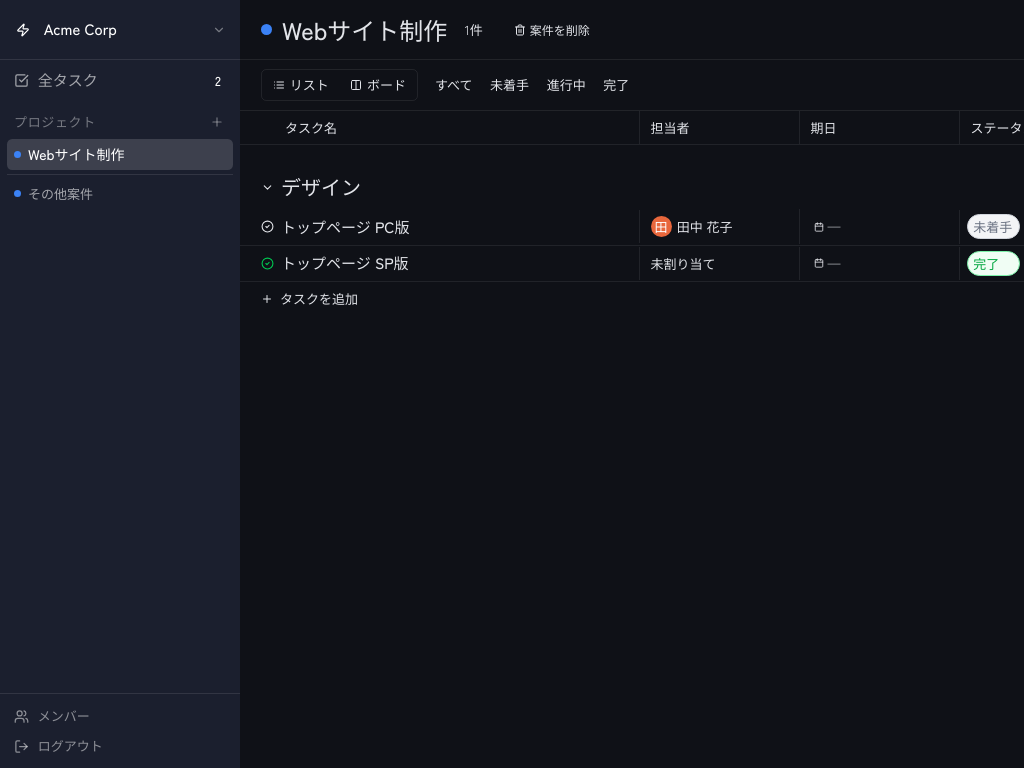
Test: App の主要操作 › その他案件で M2 からタスクを追加すると一覧に出る
Expected: the heading "Webサイト制作" is shown, [282, 12, 447, 48]
Click the button "その他案件" at {"x": 120, "y": 193}, box [7, 178, 233, 208]
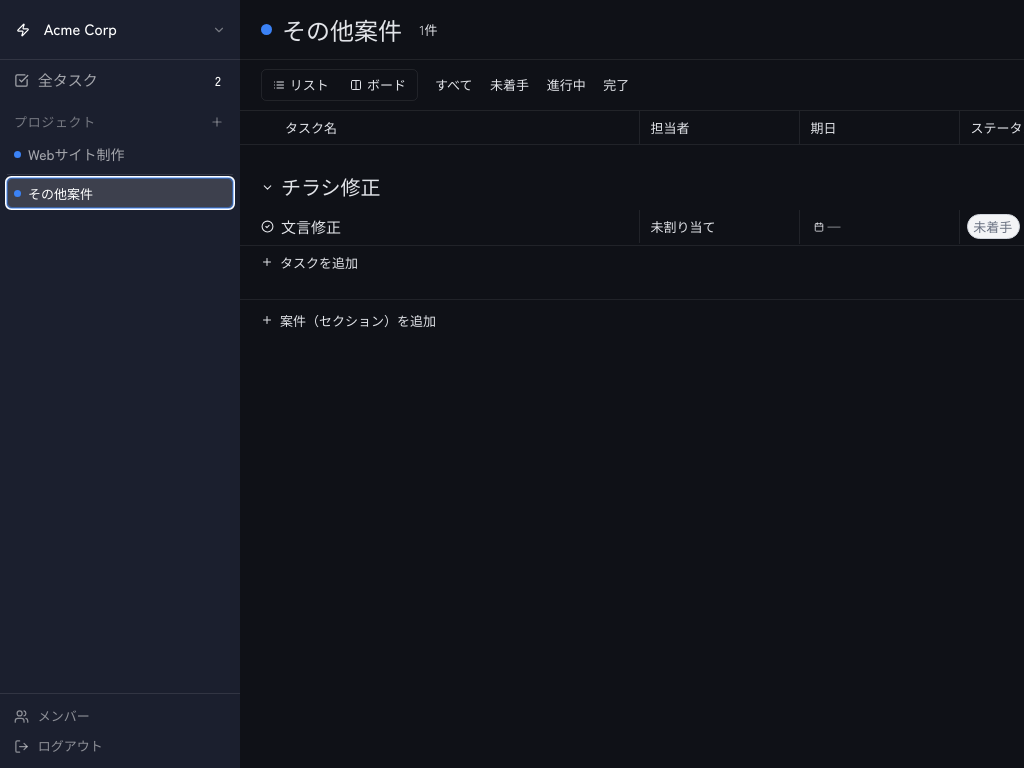
Now the text "チラシ修正" is shown, box [281, 172, 381, 202]
セクションごとに「タスクを追加」があるので先頭のものを押す。M2 は Enter で送信
Click the button "タスクを追加" at {"x": 319, "y": 262}, box [240, 246, 1023, 279]
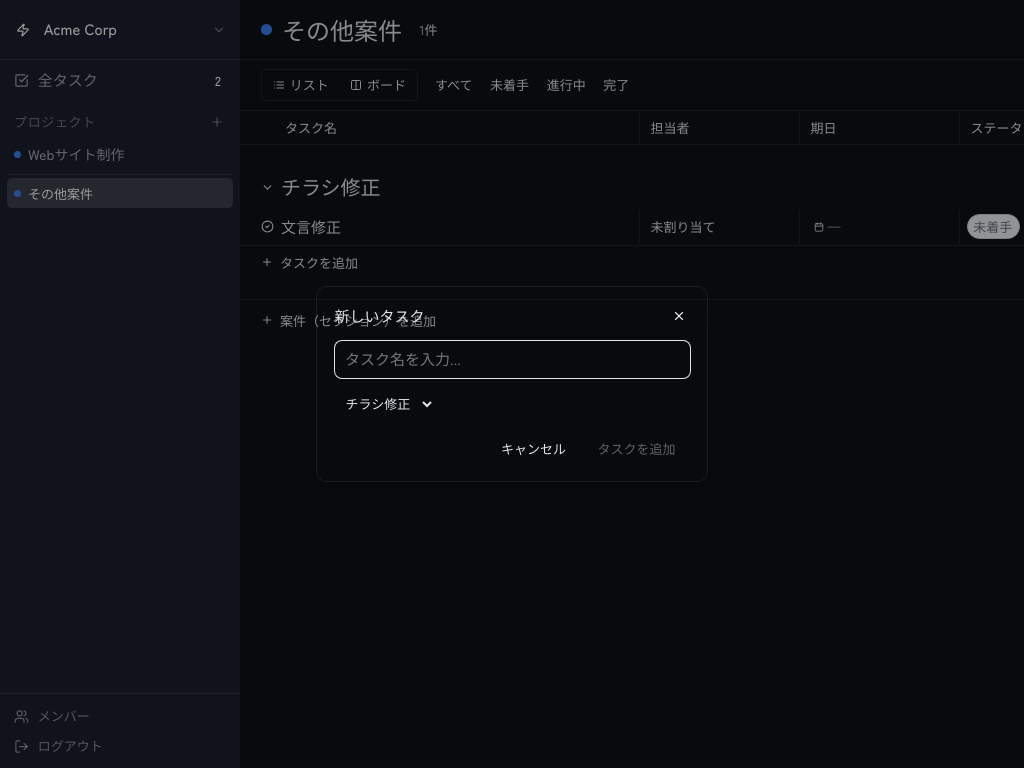
Type "校正" into the field with placeholder "タスク名を入力..." at {"x": 512, "y": 359}, box [334, 341, 690, 378]
Then press Enter
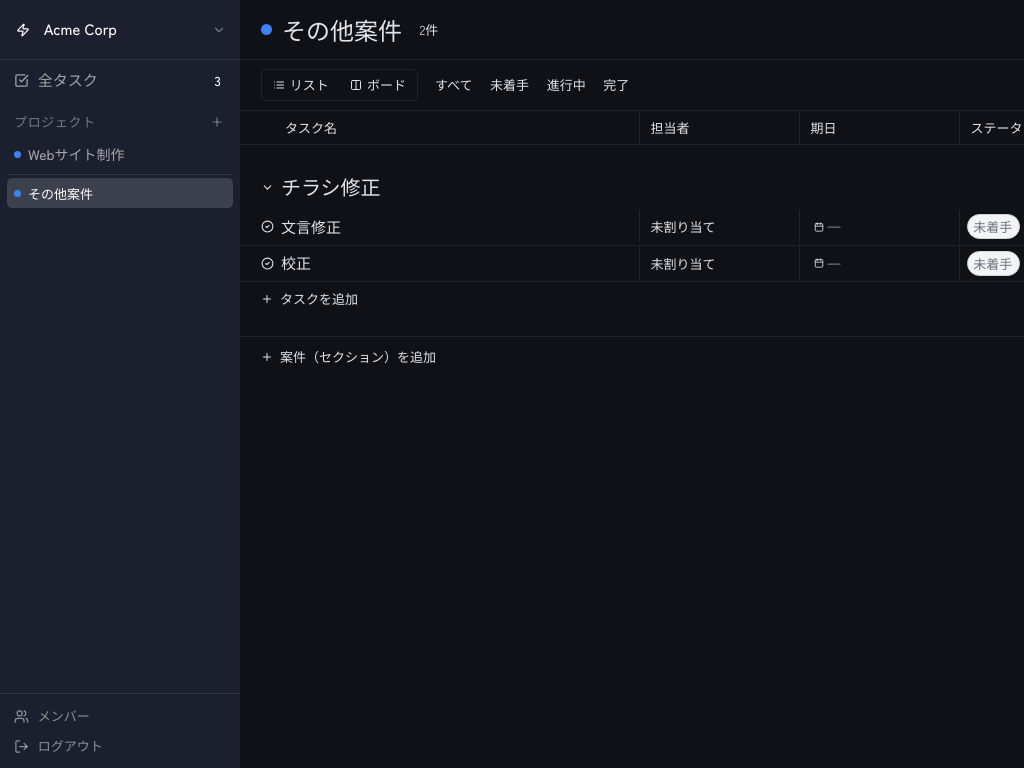
Now the text "校正" is shown, box [281, 252, 311, 273]
